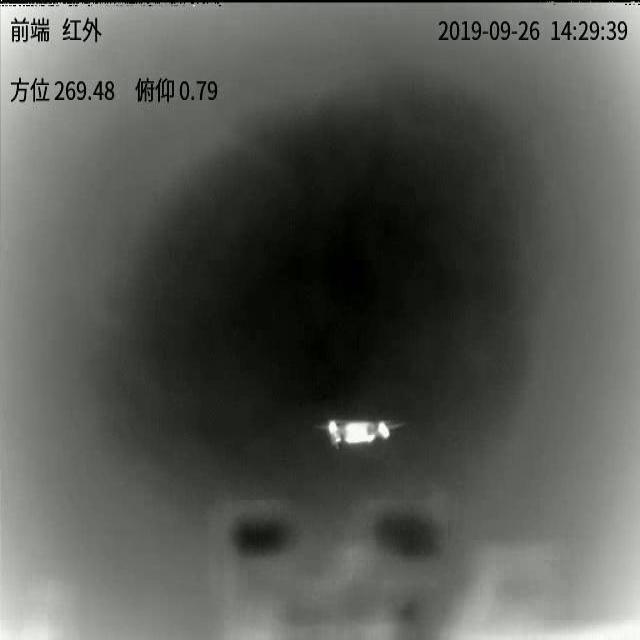drone: (315, 419, 401, 449)
